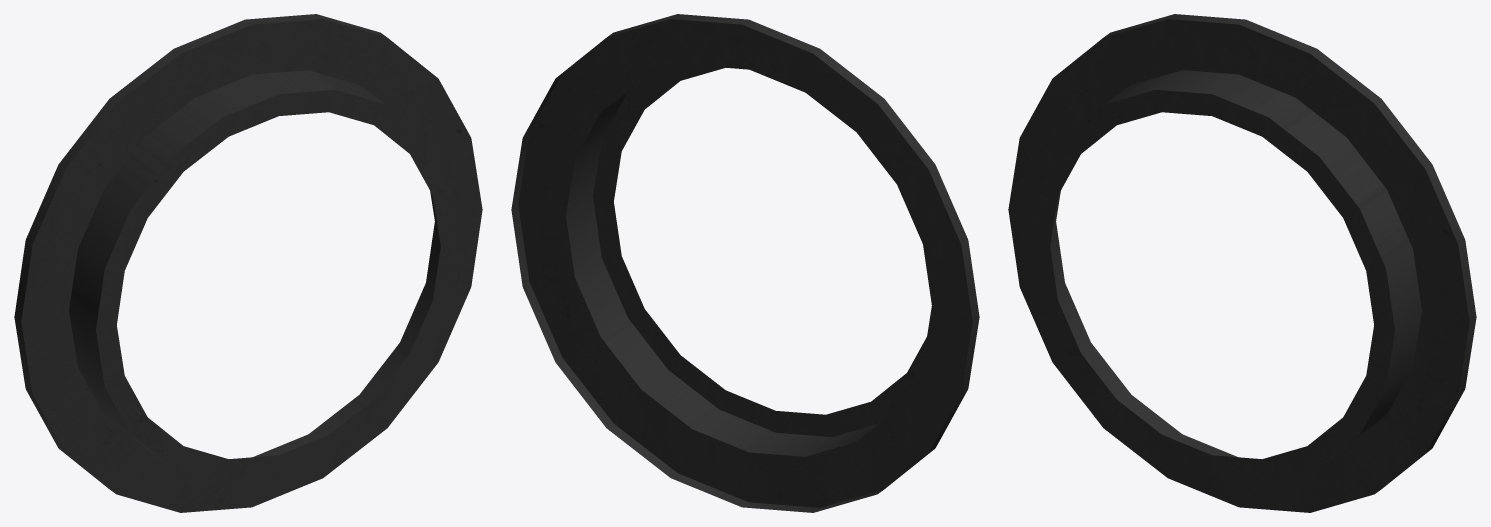
File: 轴承保护轮.fbx
The picture shows the model from 3 angles, left to right: view 1: azimuth 30°, elevation 25°; view 2: azimuth 150°, elevation 25°; view 3: azimuth 330°, elevation 25°; orthographic projection.
Parts seen in each view (by area): view 1: 轴承保护轮; view 2: 轴承保护轮; view 3: 轴承保护轮.
Part boxes in pixels (x1,y1,x2,y2): 轴承保护轮: (14, 14, 482, 512); 轴承保护轮: (511, 14, 979, 512); 轴承保护轮: (1008, 14, 1476, 512).
Bounding box in the file's own units: 44.58 × 44.58 × 5.66.
1 material, 1 textured.
